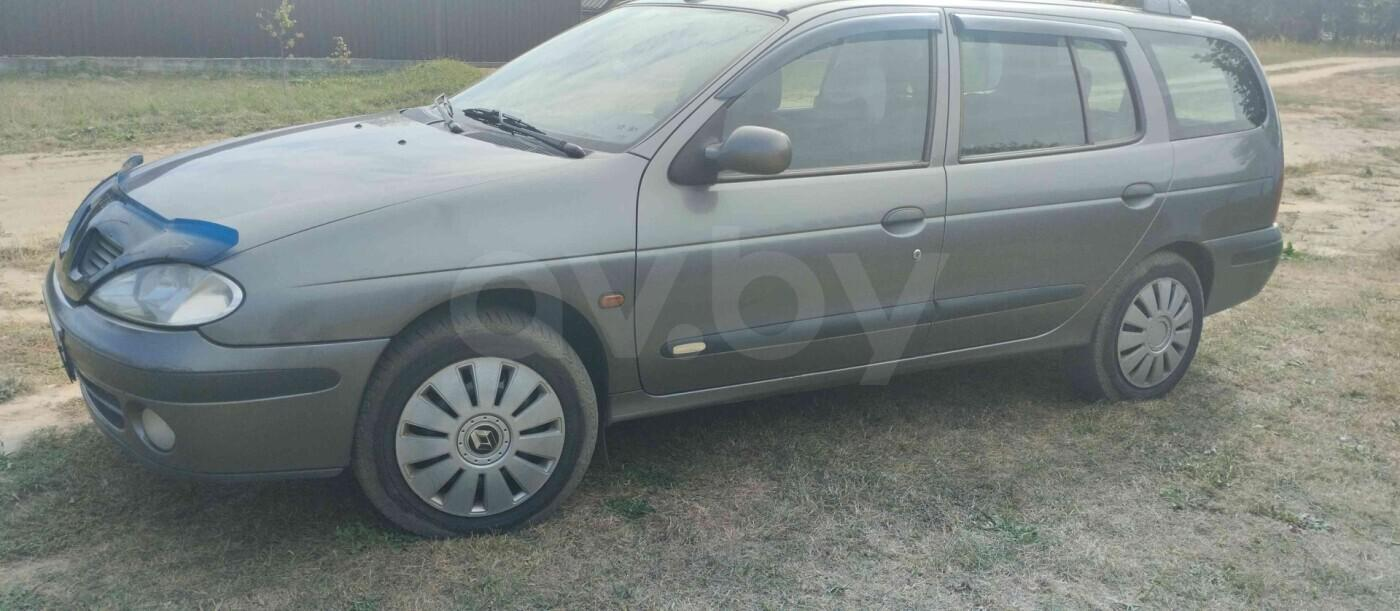Megane_1999-2003: (43, 0, 1285, 534)
